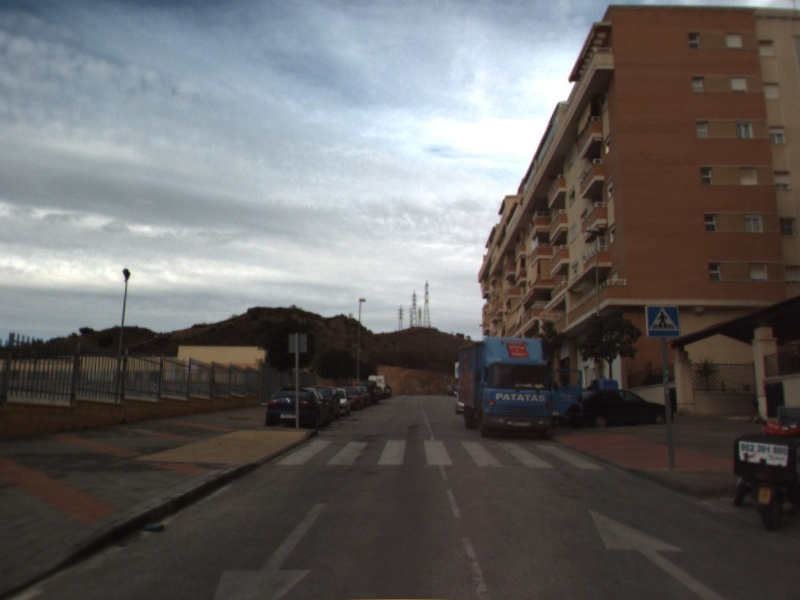STRAIGHT: (587, 507, 726, 600)
